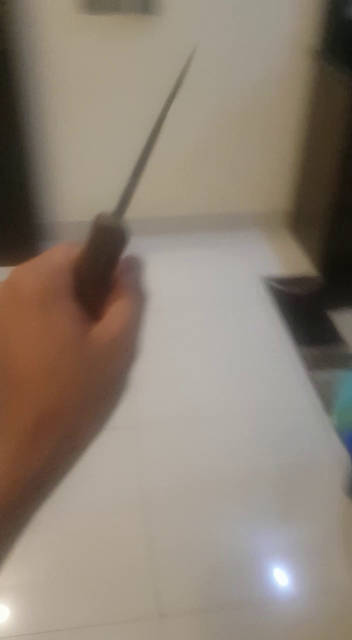knife: (13, 23, 309, 412)
